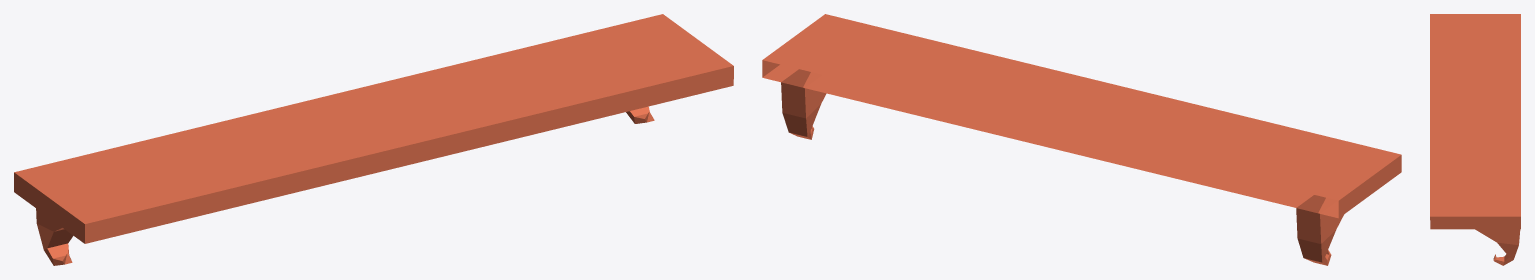
File: env_Prateleira.fbx
3 views of the same model, side by side, from view 1: azimuth 30°, elevation 25°; view 2: azimuth 150°, elevation 25°; view 3: azimuth 270°, elevation 25° (orthographic). The views are drawn at different scales.
Visible parts, largest first — view 1: env_Prateleira; view 2: env_Prateleira; view 3: env_Prateleira.
Boxes of the visible parts, bbox=[...] form: env_Prateleira: bbox=[14, 14, 733, 265]; env_Prateleira: bbox=[762, 14, 1401, 265]; env_Prateleira: bbox=[1430, 14, 1520, 265].
Size of the model in its own units: 2224 by 294 by 421.
